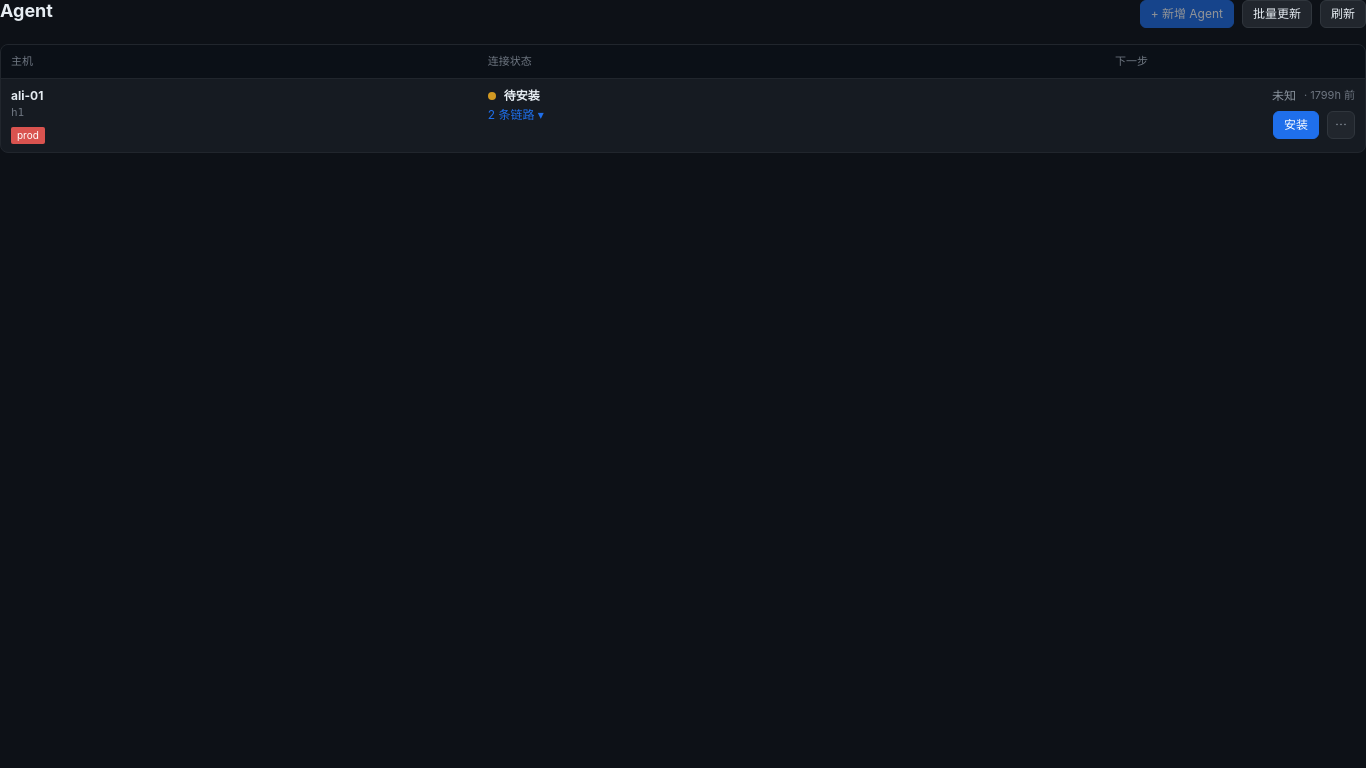
it: AgentManagerTab › shows the config_remove recovery stage to the user
Click the button with test id "agent-more-h1": (1341, 124) 1327,110 -> 1355,138
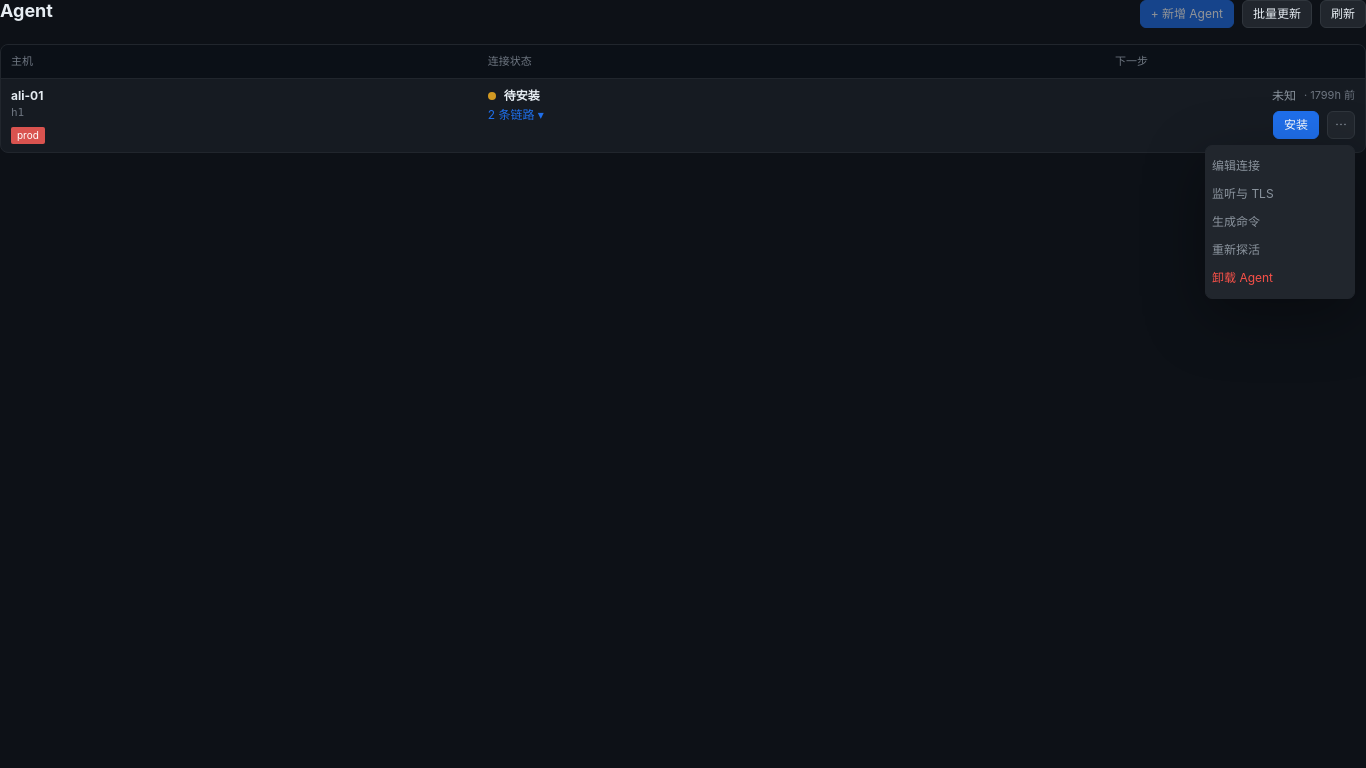
Click the button with test id "agent-menu-uninstall-h1": (1280, 278) 1212,264 -> 1348,292
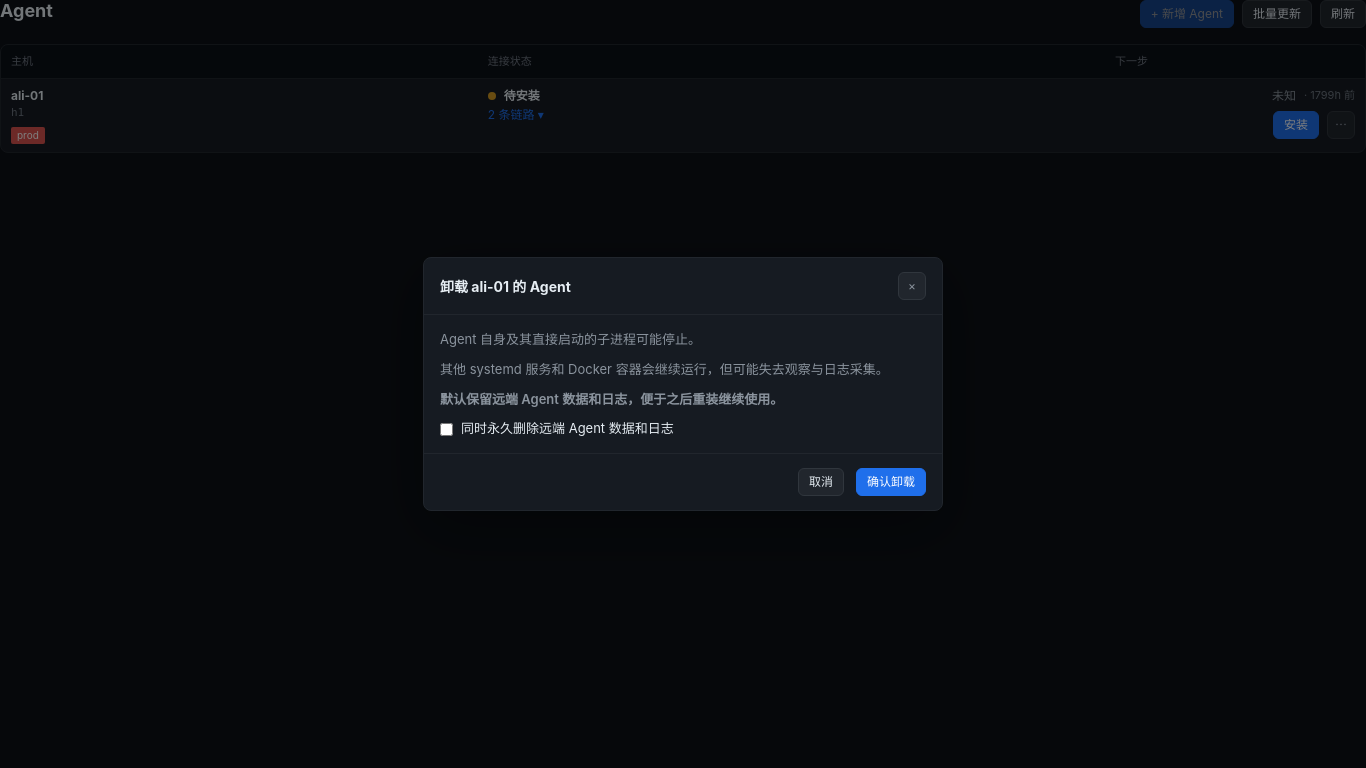
Click the button with test id "agent-uninstall-confirm": (891, 482) 856,468 -> 926,496
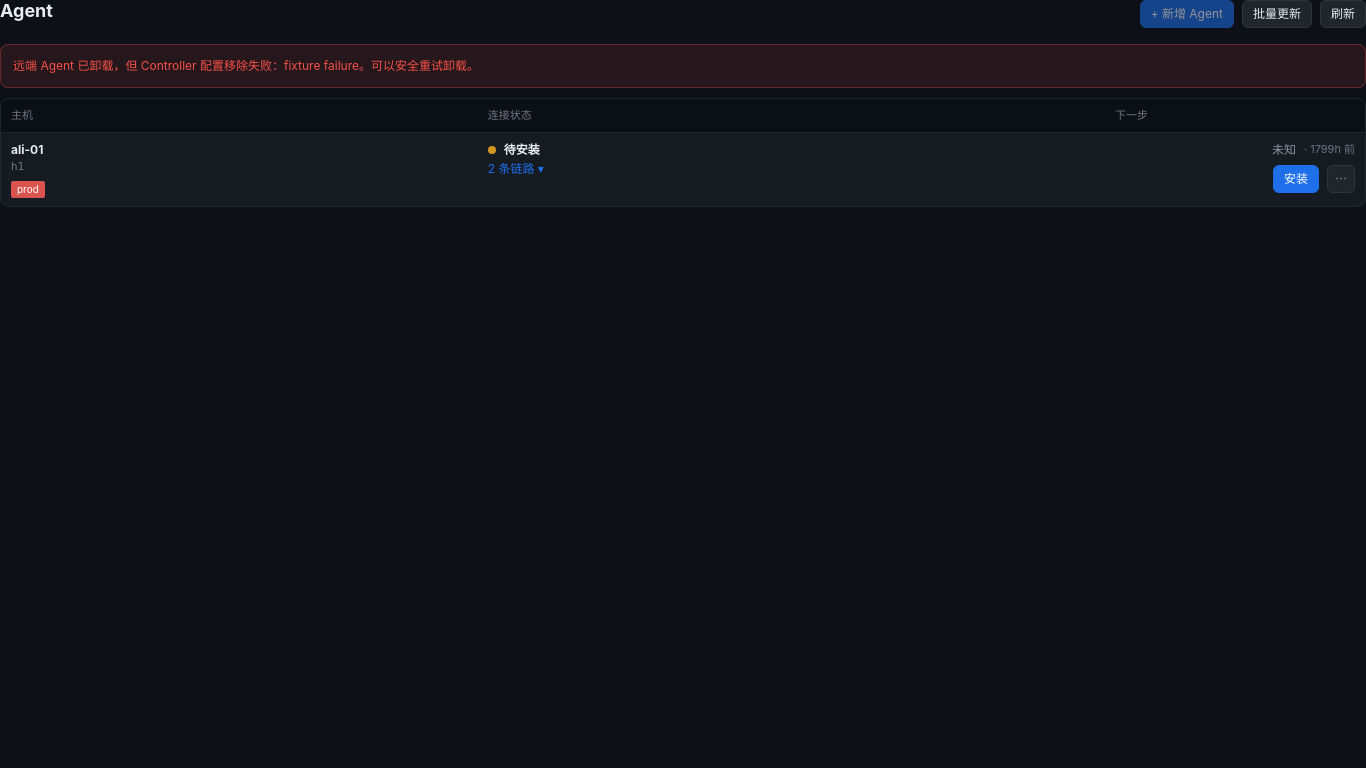
Now the text "远端 Agent 已卸载，但 Controller 配置移除失败" is shown, box 13,58 -> 479,73
